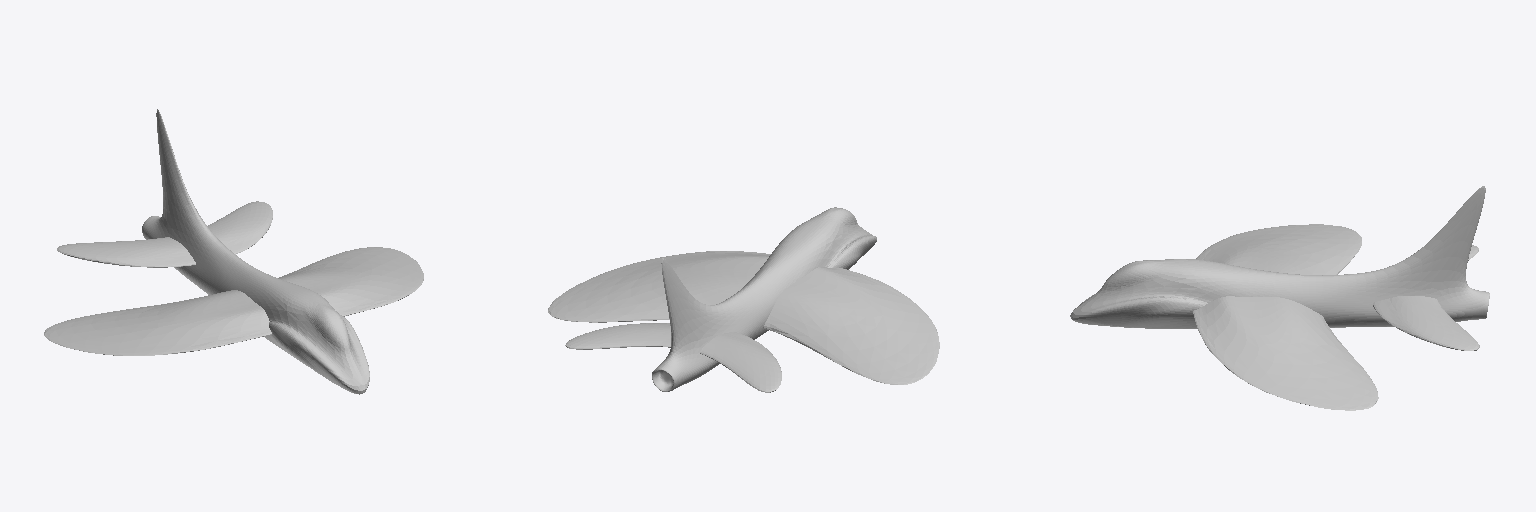
The picture shows the model from 3 angles: view 1: azimuth 30°, elevation 25°; view 2: azimuth 150°, elevation 25°; view 3: azimuth 270°, elevation 25°; orthographic projection.
Visible parts, largest first — view 1: s.[number redacted] Mesh Mesh Mesh, s.[number redacted] Mesh Mesh Mesh, s.[number redacted] Mesh Mesh Mesh; view 2: s.[number redacted] Mesh Mesh Mesh, s.[number redacted] Mesh Mesh Mesh, s.[number redacted] Mesh Mesh Mesh; view 3: s.[number redacted] Mesh Mesh Mesh, s.[number redacted] Mesh Mesh Mesh, s.[number redacted] Mesh Mesh Mesh.
Part boxes in pixels (left/top/right/bottom): s.[number redacted] Mesh Mesh Mesh: left=44, top=247, right=423, bottom=355; s.[number redacted] Mesh Mesh Mesh: left=142, top=109, right=369, bottom=394; s.[number redacted] Mesh Mesh Mesh: left=57, top=201, right=272, bottom=267; s.[number redacted] Mesh Mesh Mesh: left=548, top=251, right=939, bottom=384; s.[number redacted] Mesh Mesh Mesh: left=652, top=207, right=876, bottom=391; s.[number redacted] Mesh Mesh Mesh: left=565, top=323, right=781, bottom=392; s.[number redacted] Mesh Mesh Mesh: left=1070, top=186, right=1489, bottom=328; s.[number redacted] Mesh Mesh Mesh: left=1193, top=224, right=1378, bottom=410; s.[number redacted] Mesh Mesh Mesh: left=1373, top=245, right=1479, bottom=350.
Size of the model in its own units: 100 by 37.72 by 100.